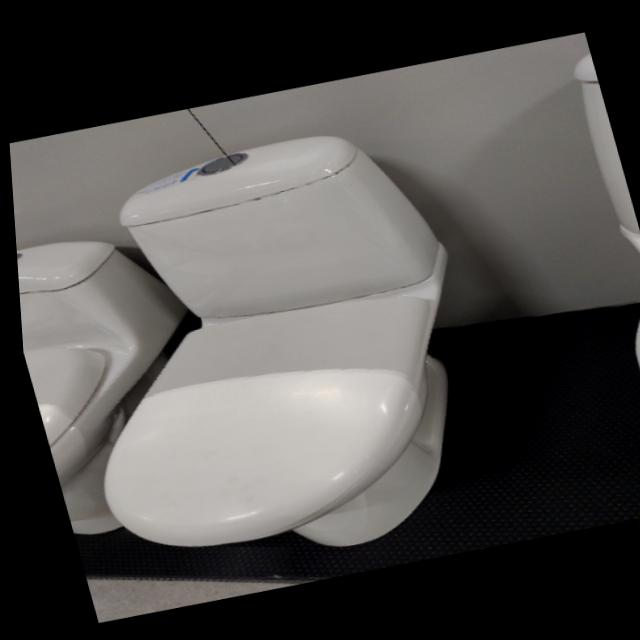toilet: (13, 106, 518, 595), (11, 216, 238, 540), (552, 47, 640, 483)
